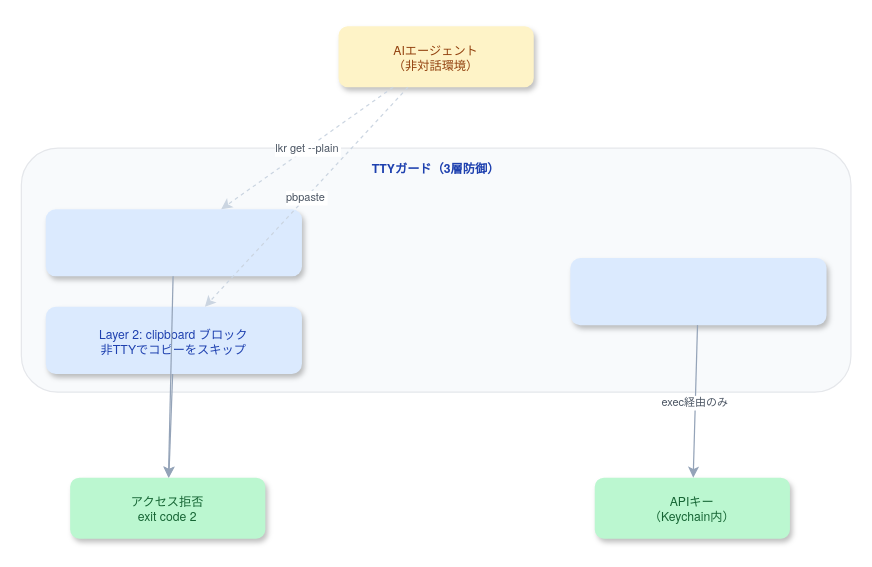
This 872x567 diagram has some shape labels left out. The centre of each missing label's shape, as x and y in pixels:
"Layer 1: stdout ブロック --plain/--show を非TTYで拒否" goes at [174,244].
"Layer 3: exec ルート そもそも出力しない" goes at [699,293].
